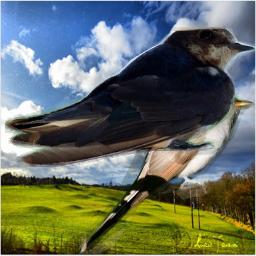Cuckoo: (79, 92, 255, 254)
Swallow: (5, 27, 256, 167)
